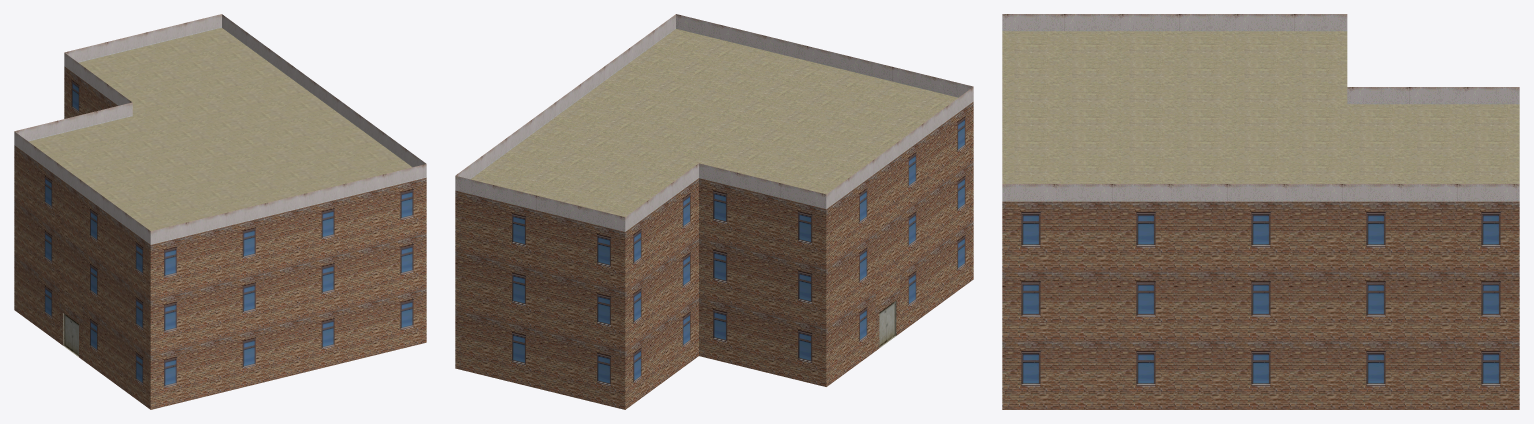
The model's file is flat_Lshape_brick.glb.
3 renders of one model, left to right at view 1: azimuth 30°, elevation 25°; view 2: azimuth 150°, elevation 25°; view 3: azimuth 270°, elevation 25°, orthographic. The views are drawn at different scales.
Parts seen in each view (by area): view 1: flat_Lshape_brick; view 2: flat_Lshape_brick; view 3: flat_Lshape_brick.
Part boxes in pixels (x1,y1,x2,y2): flat_Lshape_brick: (14,14,426,409); flat_Lshape_brick: (455,14,973,409); flat_Lshape_brick: (1002,14,1519,409).
Bounding box in the file's own units: 21 × 13 × 27.
1 material, 1 textured.
